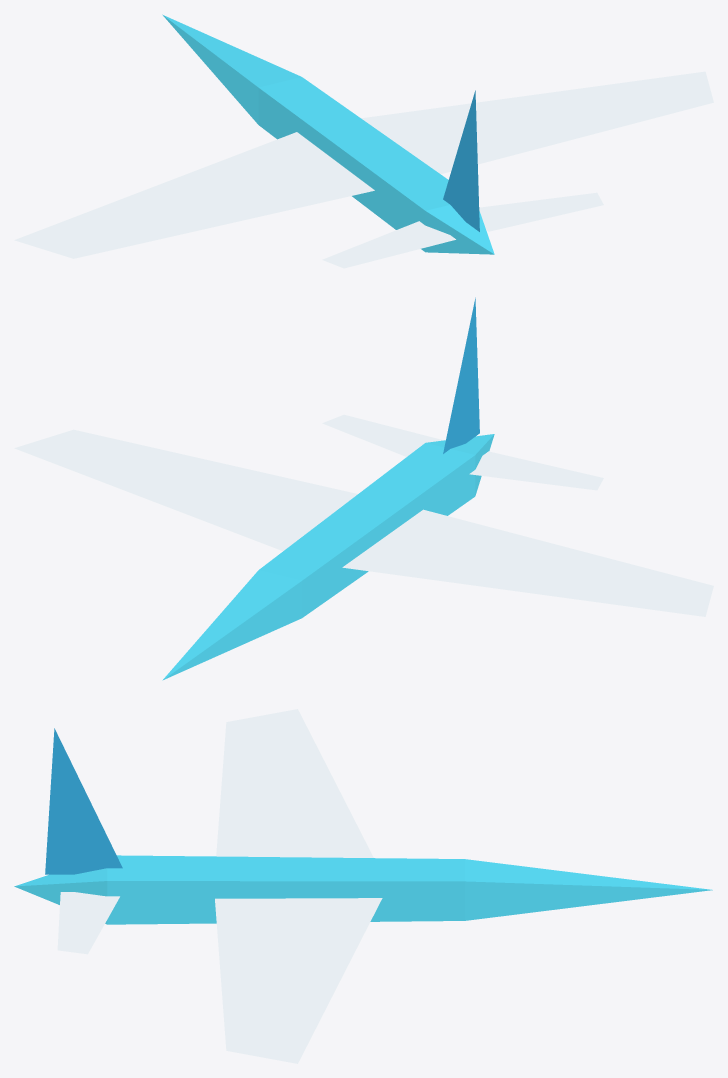
File: asura-aircraft.gltf
3 renders of one model, top to bottom at view 1: azimuth 30°, elevation 25°; view 2: azimuth 150°, elevation 25°; view 3: azimuth 270°, elevation 25°, orthographic. The views are drawn at different scales.
Parts seen in each view (by area): view 1: Generic aircraft symbol; view 2: Generic aircraft symbol; view 3: Generic aircraft symbol.
Boxes of the visible parts, left/top/right/bottom form: Generic aircraft symbol: left=14, top=14, right=713, bottom=268; Generic aircraft symbol: left=14, top=297, right=713, bottom=680; Generic aircraft symbol: left=14, top=709, right=712, bottom=1063.
Bounding box in the file's own units: 10.8 × 2.61 × 9.
